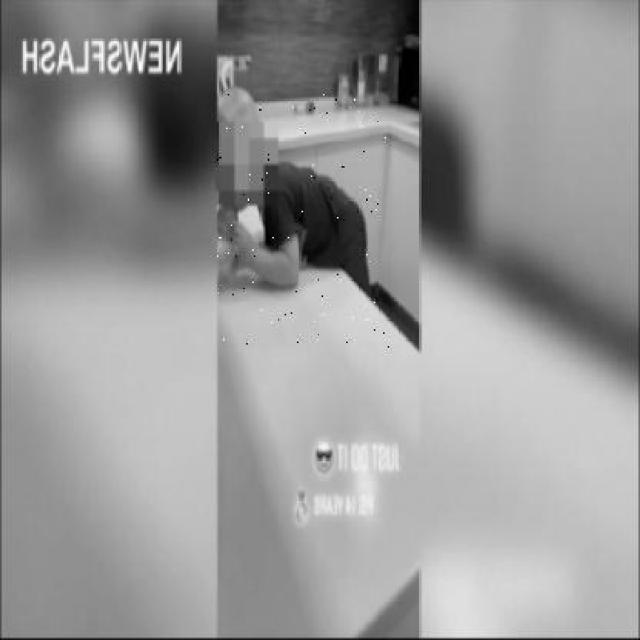child: (216, 94, 392, 348)
